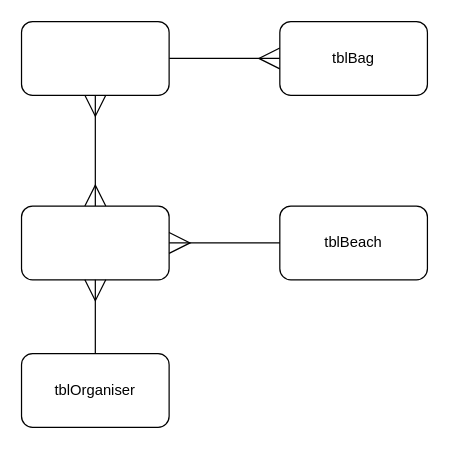
The diagram is 449 pixels wide and 449 high, and some of its shapes have lost their labels. The centre of each missing label's shape, as x and y in pixels:
"tblBeachCleanEvent" goes at (x=94, y=242).
"tblVolunteer" goes at (x=94, y=57).
